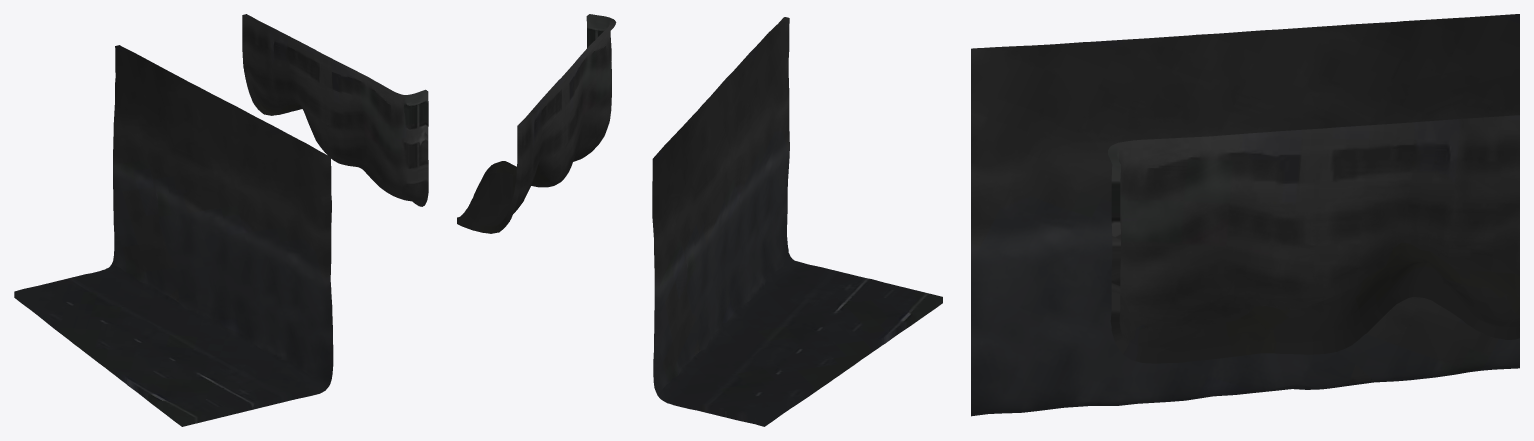
The model's file is z20-167767-405236-h0-yup-uvflip-v3-world.glb.
The picture shows the model from 3 angles, left to right: view 1: azimuth 30°, elevation 25°; view 2: azimuth 150°, elevation 25°; view 3: azimuth 270°, elevation 25°; orthographic projection. The views are drawn at different scales.
Size of the model in its own units: 30.16 by 23.28 by 30.32.
Materials: 1 (1 with a texture image).
